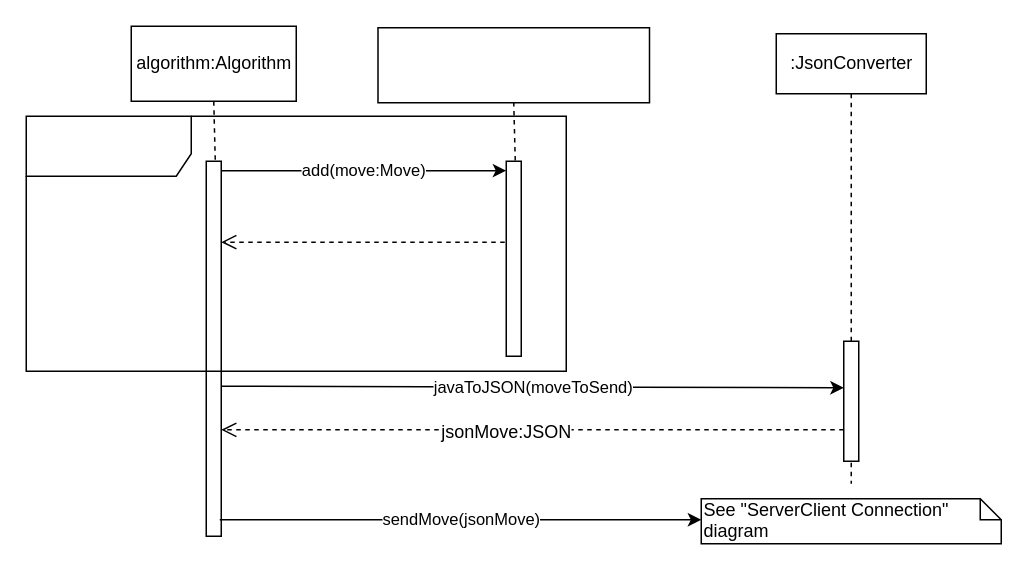
Some shapes in this 1028 by 570 pixel diagram are drawn without their labels. The shapes that lost their labels are listed below. From the top down, each one's centre as x and y in pixels, then its label:
At (513,64): "moveToSend:Collection<Move>".
At (295,243): "for an arbitrary number of moves".
